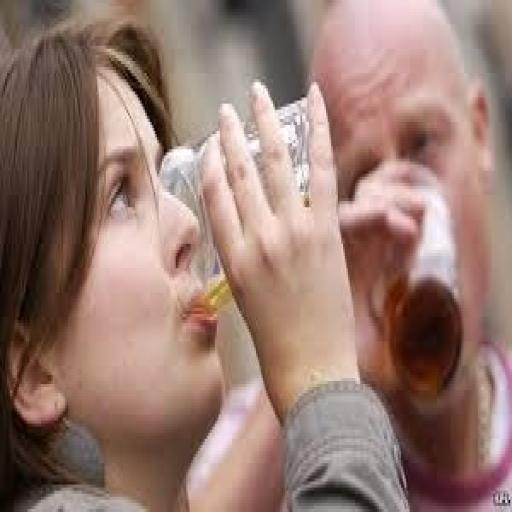drinking: (29, 92, 312, 378)
